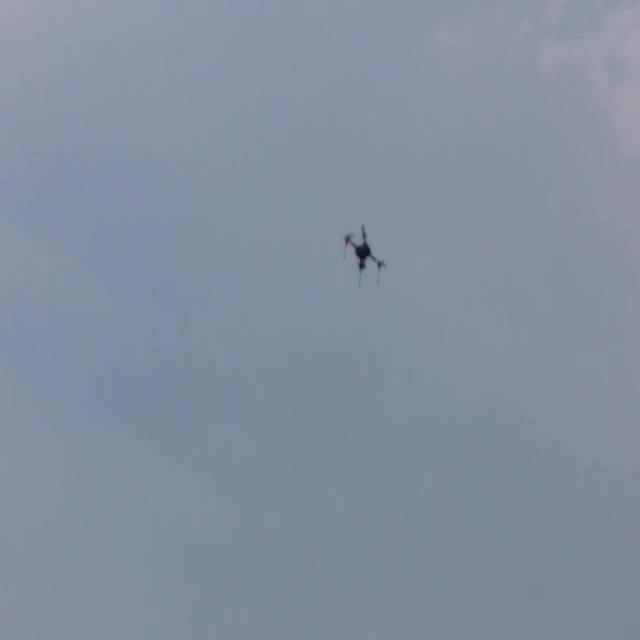UAV: (341, 224, 387, 289)
